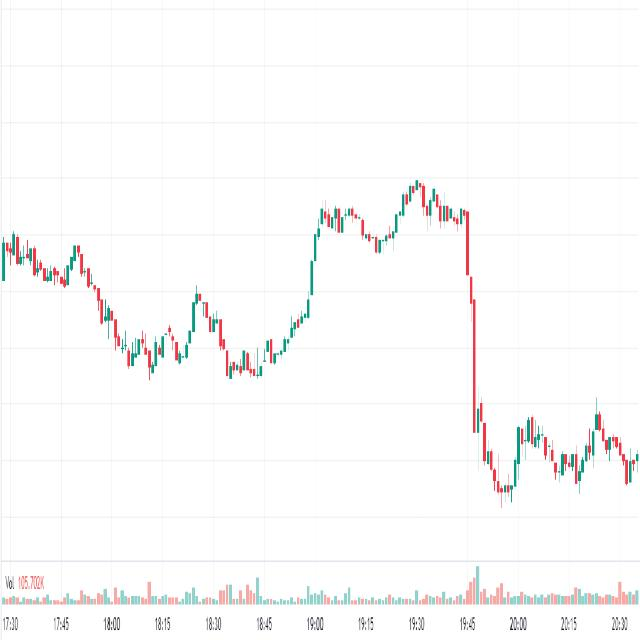Double-Top: (188, 278, 230, 379)
Rounding-Bottom: (194, 221, 321, 399), (74, 207, 198, 383), (474, 387, 524, 511)
